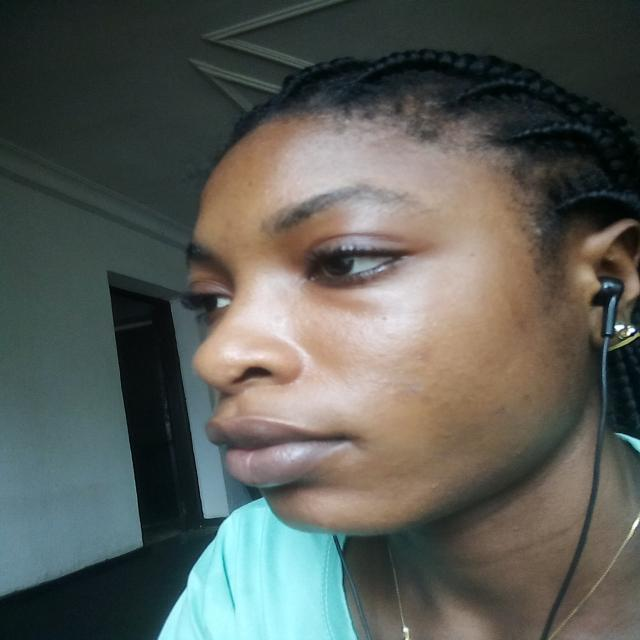Acne: (408, 382, 424, 396), (439, 432, 453, 443), (429, 480, 444, 490), (376, 378, 388, 387), (412, 353, 423, 361), (379, 314, 390, 320), (376, 352, 386, 358)
